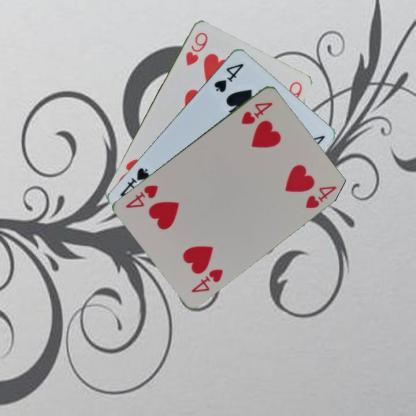4h: (188, 266, 224, 293), (238, 99, 274, 125)
4s: (211, 60, 245, 94)
9h: (183, 29, 209, 67)
